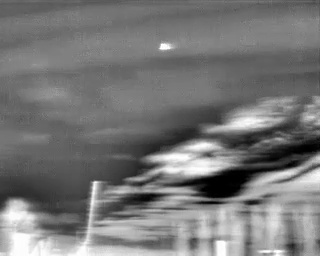BIRD: (156, 39, 176, 56)
